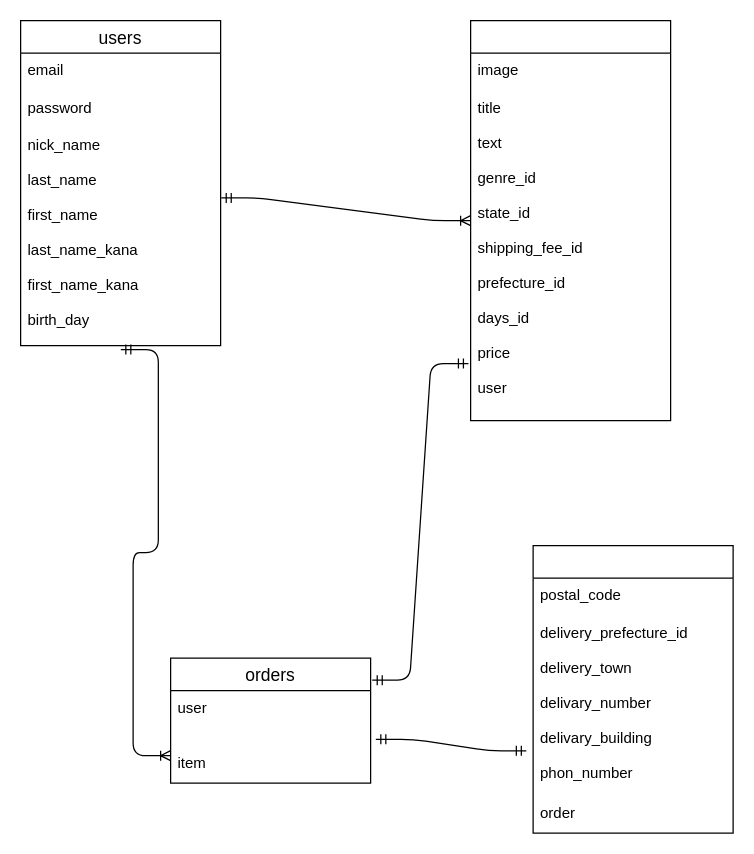
Some shapes in this 754 by 854 pixel diagram are drawn without their labels. Each missing label, with the box of its shape:
addresses: (532, 544, 733, 833)
items: (469, 19, 671, 421)
